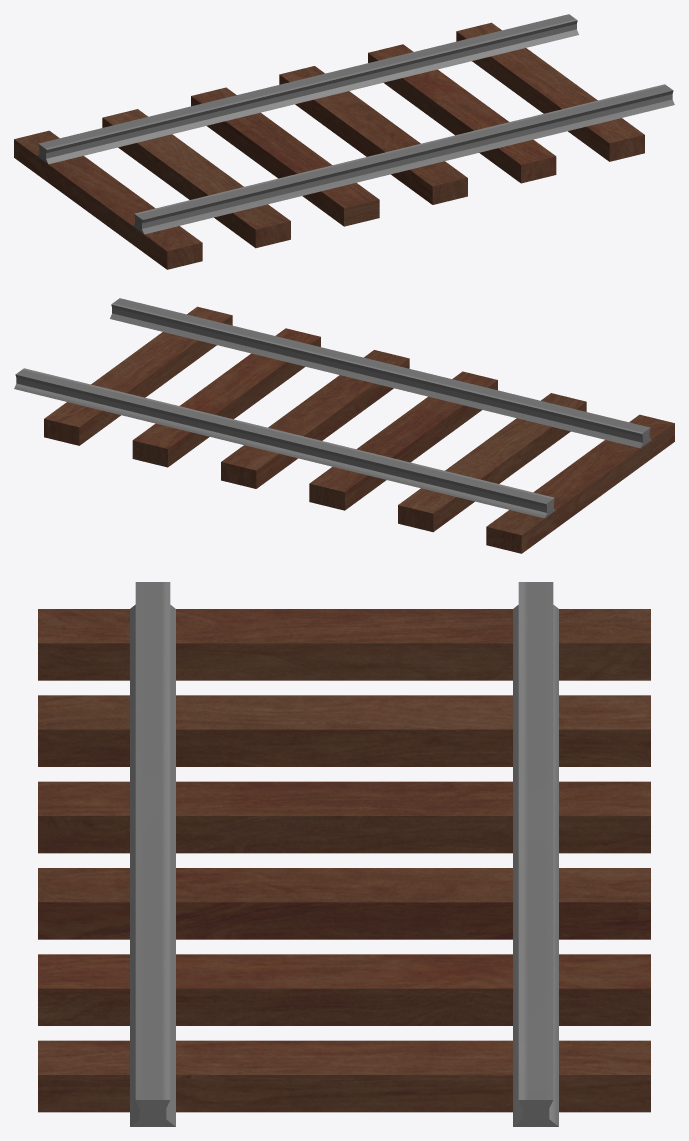
File: tex_train_tracks.fbx
The picture shows the model from 3 angles, top to bottom: view 1: azimuth 30°, elevation 25°; view 2: azimuth 150°, elevation 25°; view 3: azimuth 270°, elevation 25°; orthographic projection. The views are drawn at different scales.
Visible parts, largest first — view 1: kov.001; view 2: kov.001; view 3: kov.001.
Part boxes in pixels (x1=…): kov.001: x1=14, y1=14, x2=674, y2=269; kov.001: x1=14, y1=298, x2=674, y2=553; kov.001: x1=38, y1=582, x2=650, y2=1126.
Bounding box in the file's own units: 300 × 17.26 × 150.
